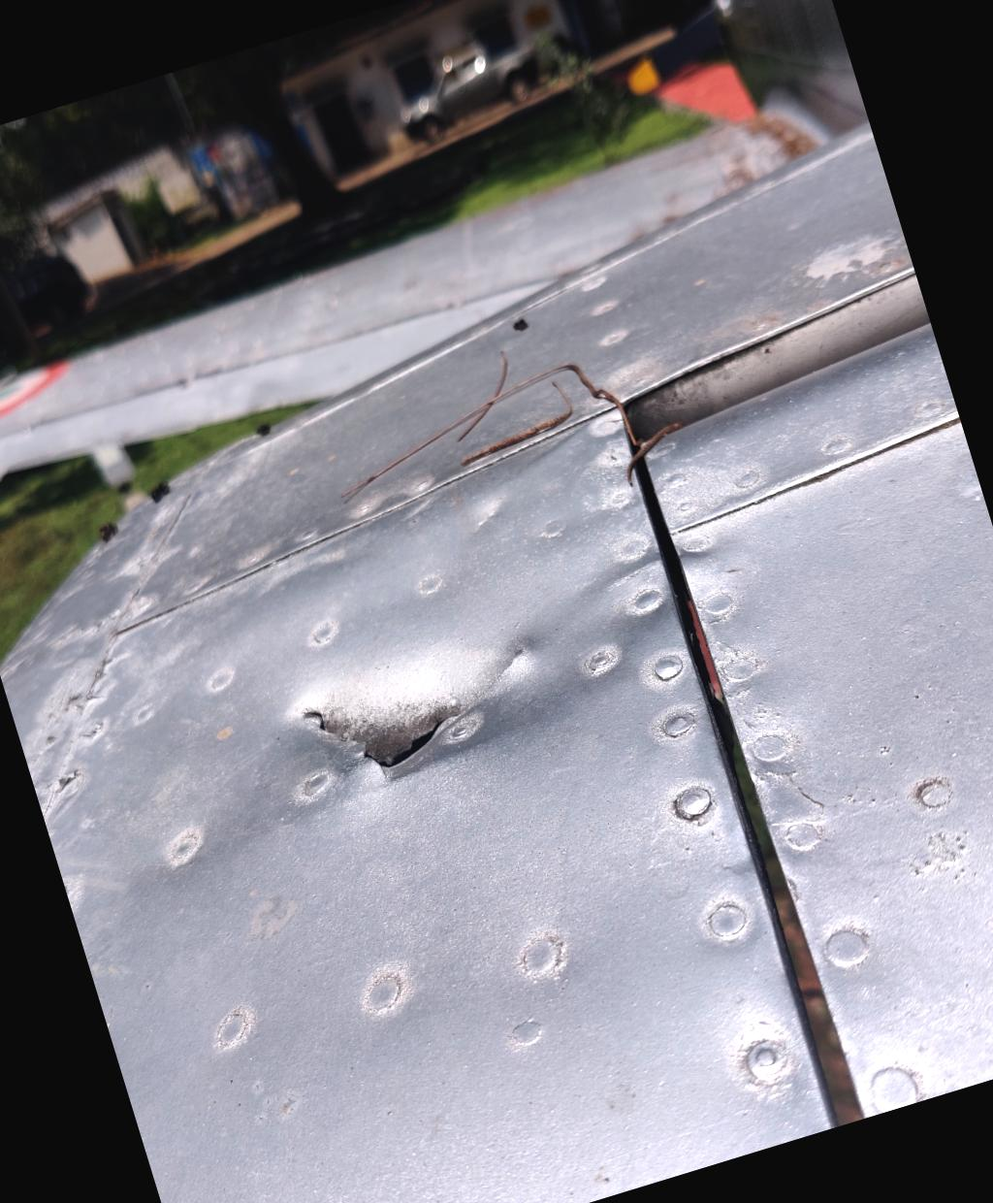crack: (254, 589, 544, 852)
